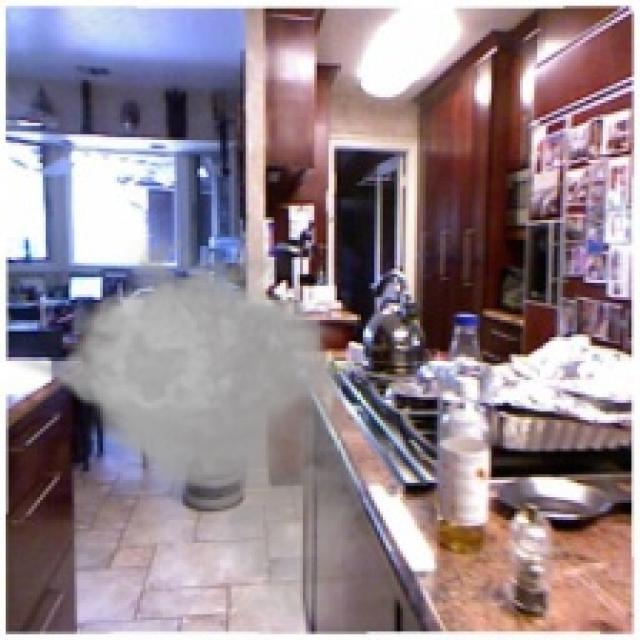smoke: (8, 223, 383, 634)
